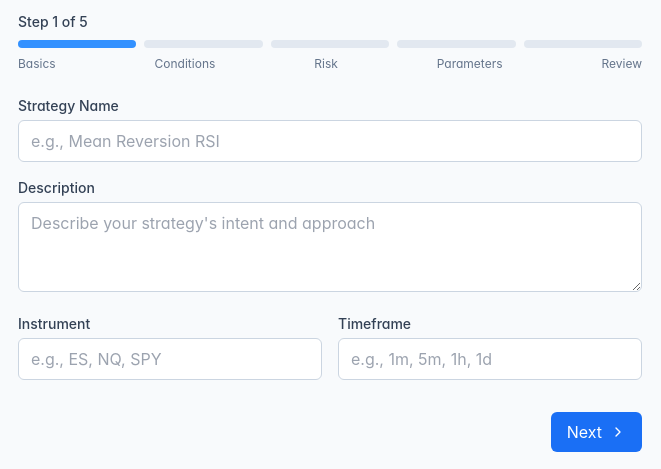
Test case: StrategyDraftForm › step navigation › advances to next step when next button is clicked
// Fill in required field
In the field labelled "Strategy Name": (330, 141) [18,120,642,162], type "My Strategy"
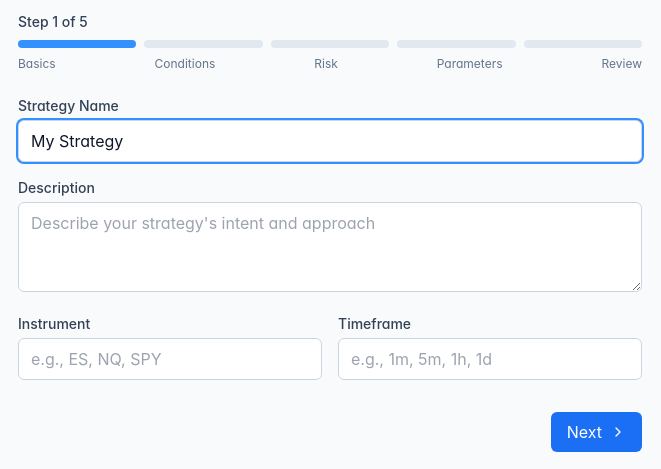
// Click next
Click the button "Next": (596, 432) [551,412,642,452]
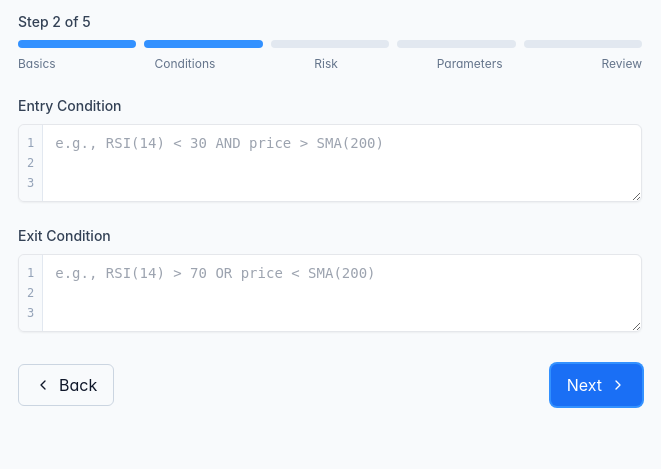
Expected: the text box labelled "Entry Condition" is shown, [43,125,641,201]
